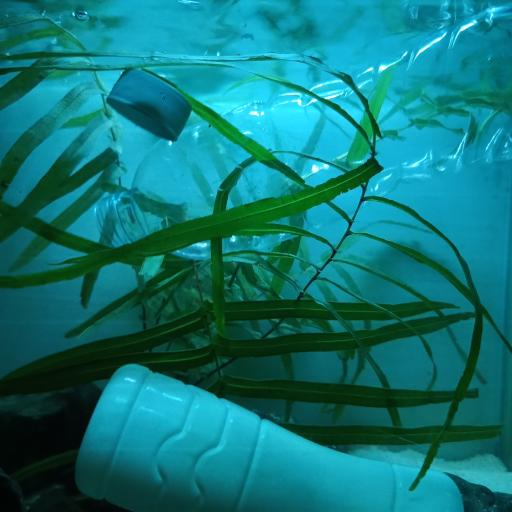bottle_cap: (108, 67, 195, 141)
plastic_bottle: (96, 0, 512, 260), (74, 363, 468, 512)
